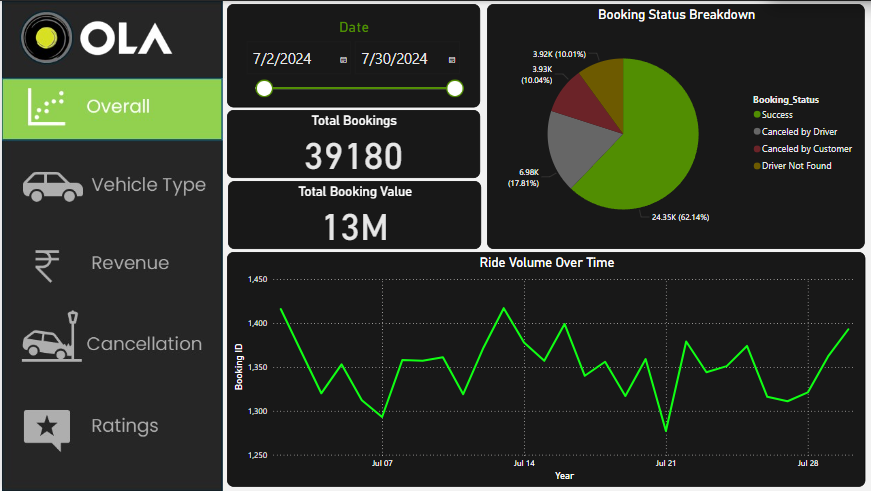

The page's visual inventory and layout, read from the dashboard file:
{"tool":"powerbi","page":{"name":"Overall","canvas":[1280,720],"ordinal":0},"visuals":[{"type":"actionButton","box":[0,339.4,324.7,94],"z":0},{"type":"actionButton","box":[0,220.4,324.7,94],"z":1000},{"type":"actionButton","box":[0,457,324.7,94],"z":2000},{"type":"actionButton","box":[0,580.4,324.7,94],"z":3000},{"type":"actionButton","box":[0,108.7,324.7,94],"z":4000},{"type":"lineChart","title":"Ride Volume Over Time","fields":{"Y":["CountNonNull(July.Booking_ID)"],"Category":["July.Date.Variation.Date Hierarchy.Year","July.Date.Variation.Date Hierarchy.Quarter","July.Date.Variation.Date Hierarchy.Month","July.Date.Variation.Date Hierarchy.Day"]},"box":[330,368.3,938.3,345],"z":5000},{"type":"pieChart","title":"Booking Status Breakdown","fields":{"Category":["July.Booking_Status"],"Y":["CountNonNull(July.Booking_Status)"]},"box":[713.3,5,555,360],"z":6000},{"type":"slicer","title":"Date","fields":{"Values":["July.Date"]},"box":[330,5,371.7,151.7],"z":7000},{"type":"card","title":"Total Bookings","fields":{"Values":["CountNonNull(July.Booking_ID)"]},"box":[330,160,371.7,100],"z":8000},{"type":"card","title":"Total Booking Value","fields":{"Values":["Sum(July.Booking_Value)"]},"box":[331.7,265,371.7,100],"z":9000}]}

Visuals, with their boxes in screenshot pixels (x1, y1, x2, y2), scaled from the page's 1280x720 canvas onto the 871x491 screenshot:
actionButton: (0,231,221,296)
actionButton: (0,150,221,214)
actionButton: (0,312,221,376)
actionButton: (0,396,221,460)
actionButton: (0,74,221,138)
"Ride Volume Over Time" lineChart: (225,251,863,486)
"Booking Status Breakdown" pieChart: (485,3,863,249)
"Date" slicer: (225,3,477,107)
"Total Bookings" card: (225,109,477,177)
"Total Booking Value" card: (226,181,479,249)
